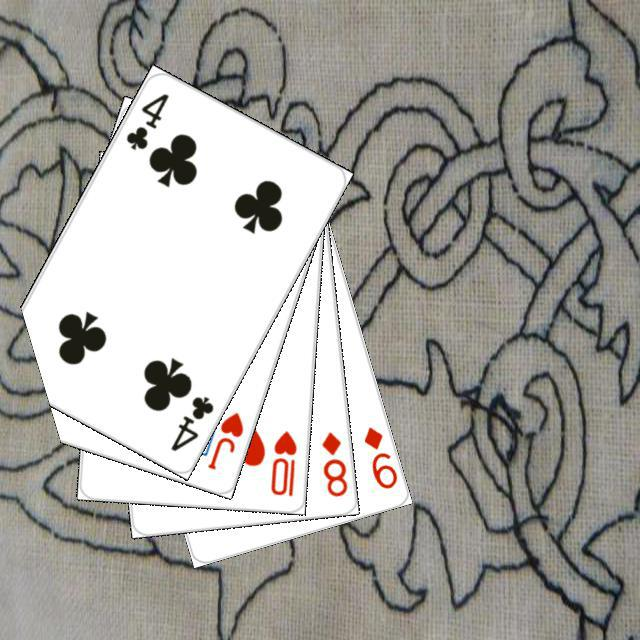10h: (266, 426, 299, 498)
4c: (121, 88, 171, 152), (165, 391, 216, 453)
8d: (317, 427, 349, 498)
9d: (359, 421, 399, 491)
Jh: (202, 407, 245, 472)
